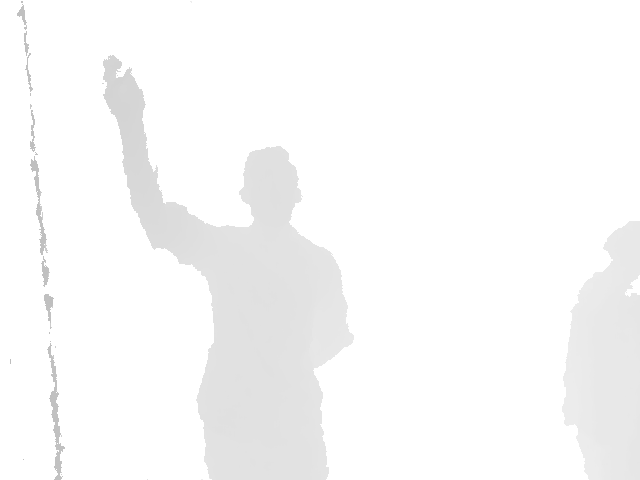hand: (102, 55, 147, 119)
head: (237, 145, 303, 224), (603, 219, 640, 260)
person: (102, 55, 357, 480), (561, 219, 640, 480)
